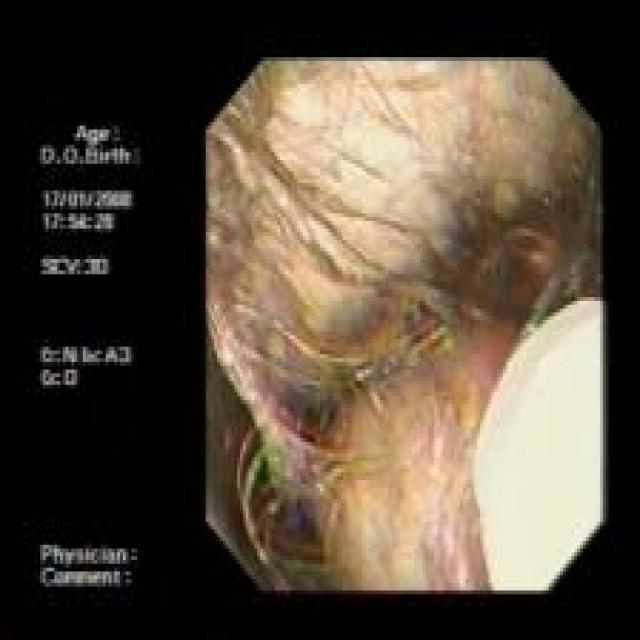blur: (205, 60, 604, 591)
color misalignment: (34, 102, 144, 592), (232, 411, 344, 578), (424, 301, 508, 424)
contrast: (440, 180, 597, 298), (208, 369, 273, 583), (280, 386, 337, 432)
saturation: (471, 298, 603, 591), (259, 59, 449, 247)
